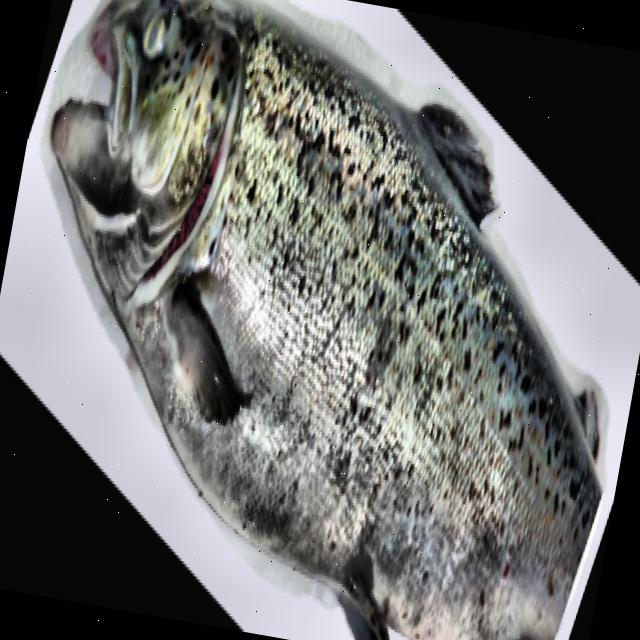mild_red: (175, 16, 603, 640)
wound: (123, 125, 223, 298)
